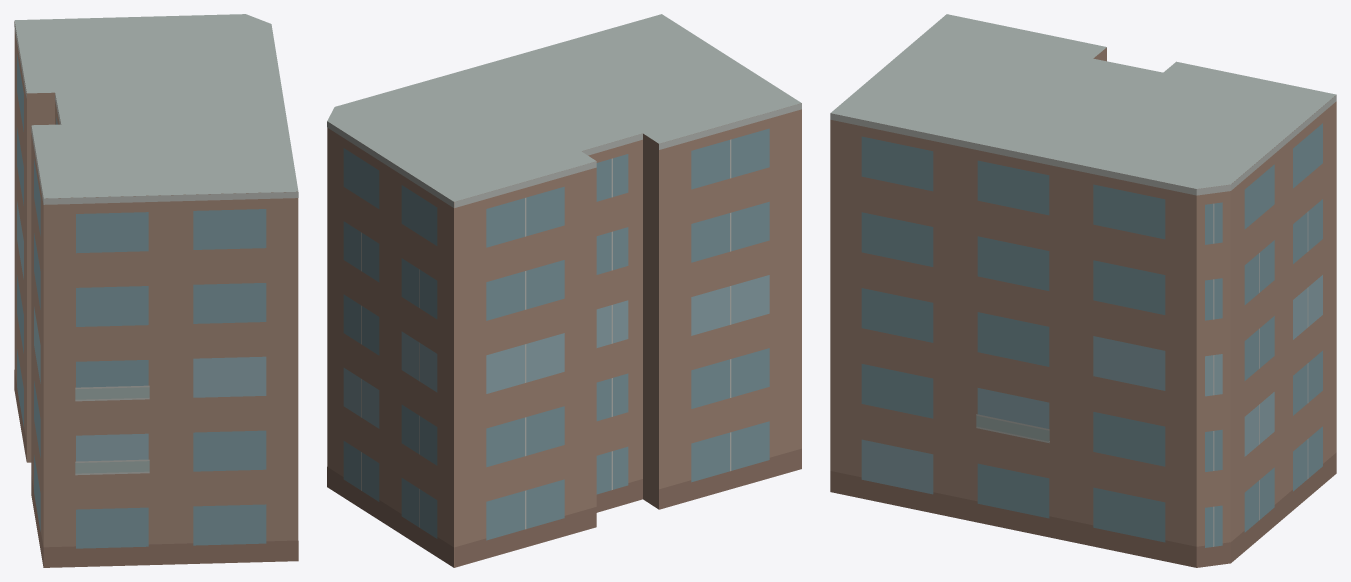
Rendered from survey-upis-32884399.glb.
The picture shows the model from 3 angles, left to right: view 1: azimuth 30°, elevation 25°; view 2: azimuth 150°, elevation 25°; view 3: azimuth 270°, elevation 25°; orthographic projection. The views are drawn at different scales.
Visible parts, largest first — view 1: survey-upis-32884399.tmp; view 2: survey-upis-32884399.tmp; view 3: survey-upis-32884399.tmp.
Boxes of the visible parts, bbox=[...] form: survey-upis-32884399.tmp: bbox=[14, 14, 298, 567]; survey-upis-32884399.tmp: bbox=[327, 14, 801, 567]; survey-upis-32884399.tmp: bbox=[830, 14, 1336, 567].
Bounding box in the file's own units: 14.08 × 14.2 × 17.21.
